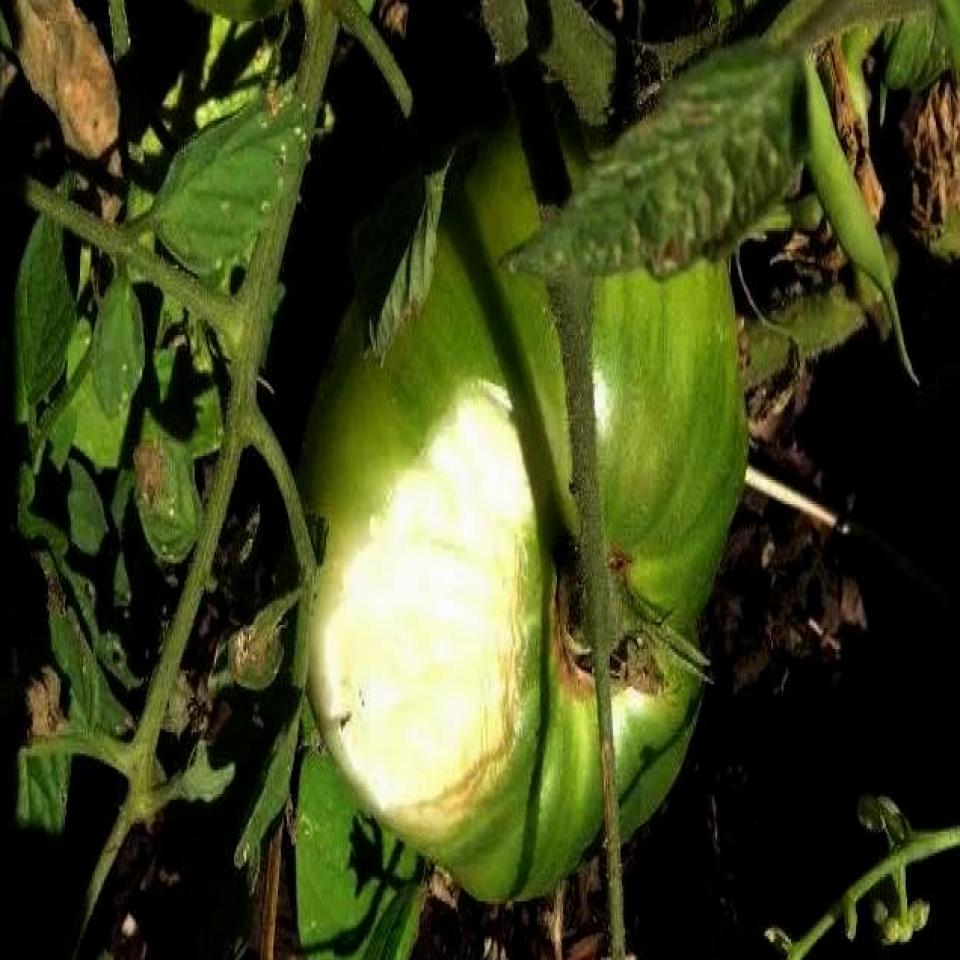Sunscald: (316, 382, 522, 826)
